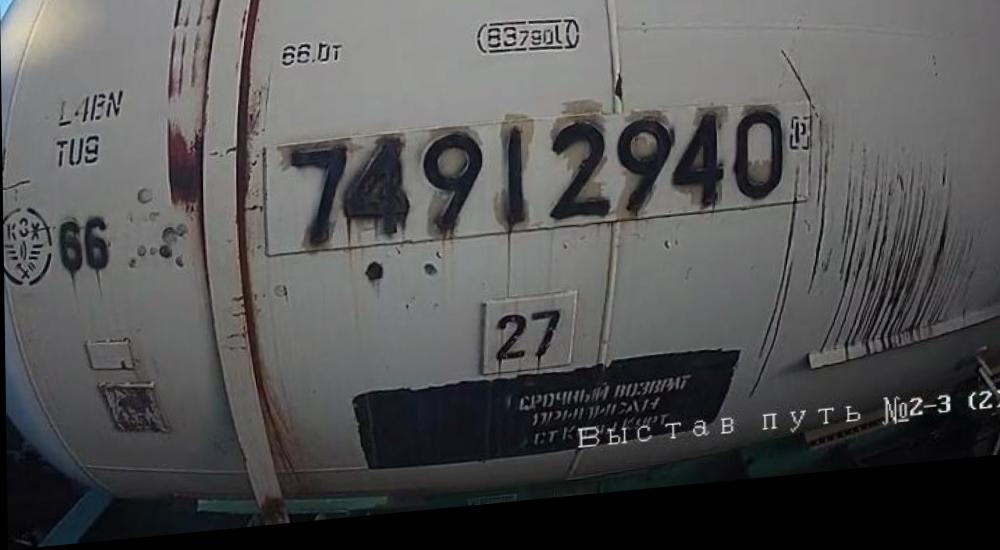Wagon-number: (277, 109, 785, 261)
